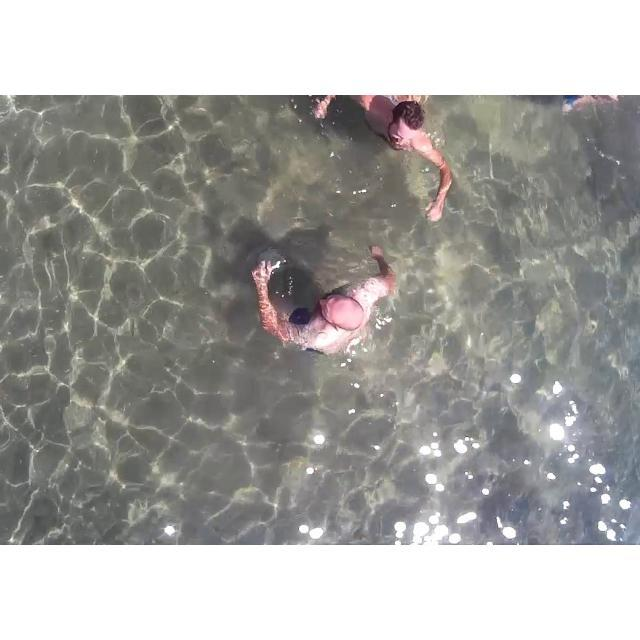human: (242, 225, 403, 370), (324, 95, 453, 236), (556, 95, 633, 121)
